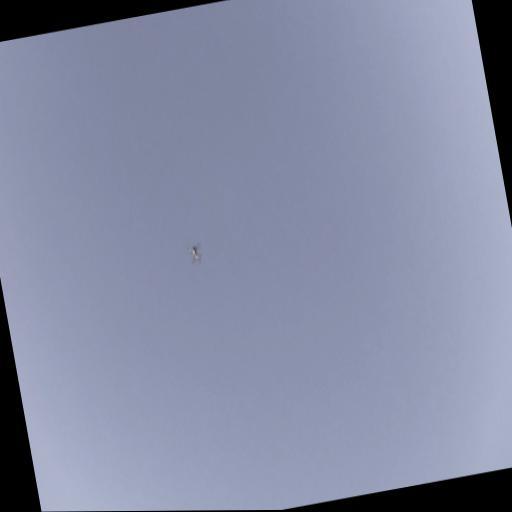drones: (184, 239, 204, 266)
